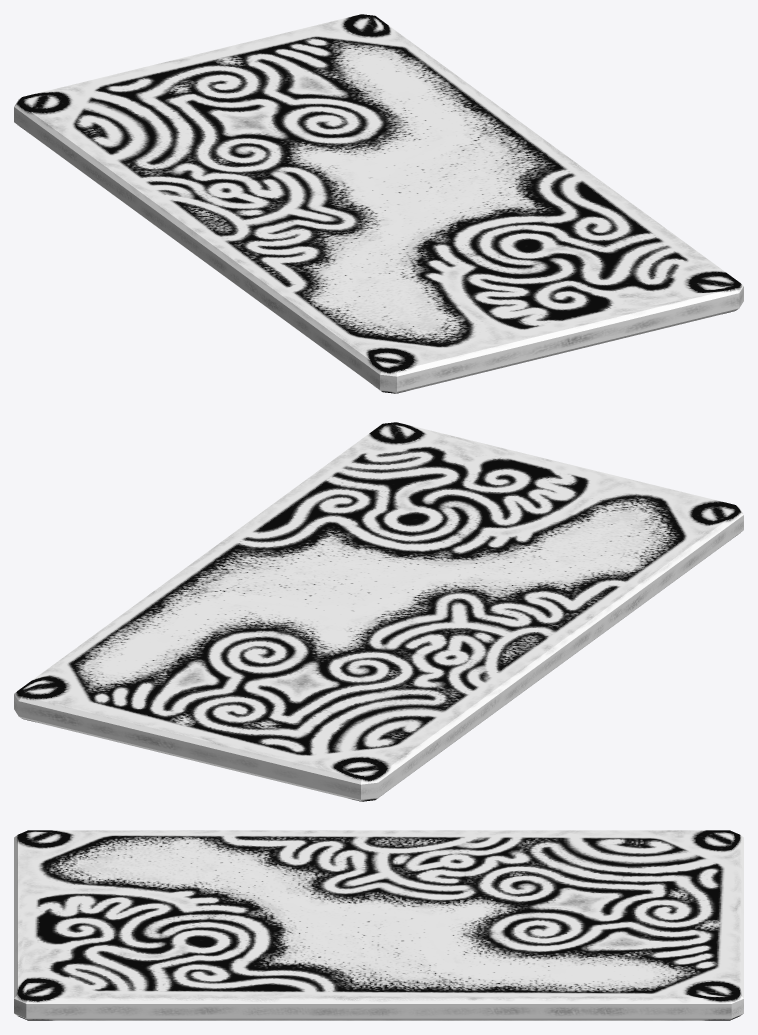
The model's file is metalDoor0.gltf.
3 renders of one model, top to bottom at view 1: azimuth 30°, elevation 25°; view 2: azimuth 150°, elevation 25°; view 3: azimuth 270°, elevation 25°, orthographic. The views are drawn at different scales.
Parts seen in each view (by area): view 1: metalDoor0; view 2: metalDoor0; view 3: metalDoor0.
Boxes of the visible parts, box(x1,y1,x2,y2) form: metalDoor0: box(14, 14, 743, 393); metalDoor0: box(14, 422, 743, 801); metalDoor0: box(14, 830, 743, 1020).
Bounding box in the file's own units: 10 × 0.6 × 18.
Materials: 1 (1 with a texture image).
